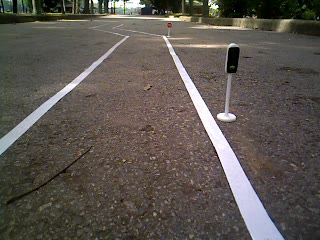Blue: (225, 43, 240, 76)
